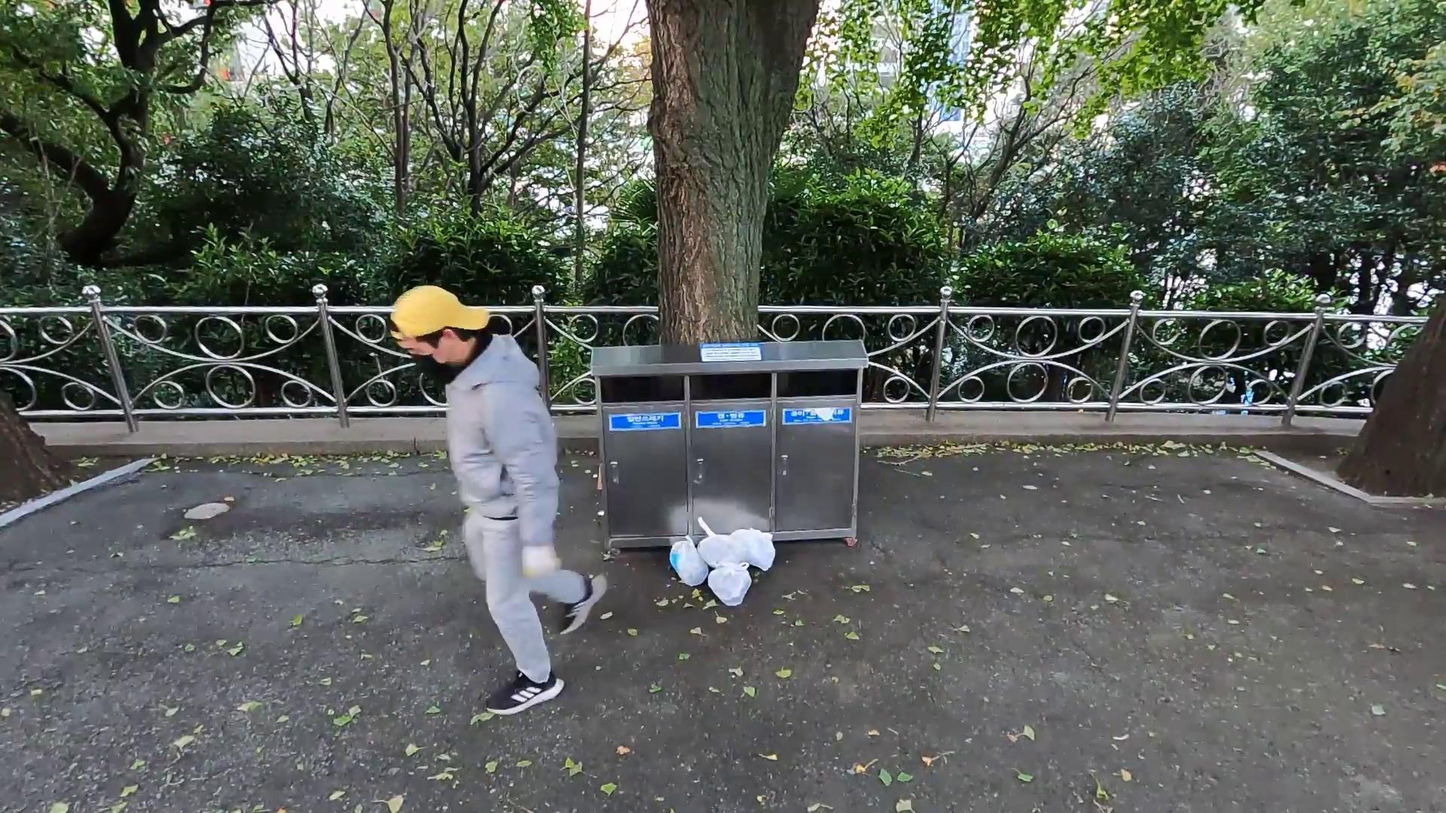person: (369, 283, 630, 728)
trash: (686, 512, 744, 583), (705, 551, 763, 620), (662, 527, 712, 599), (732, 520, 781, 574)
